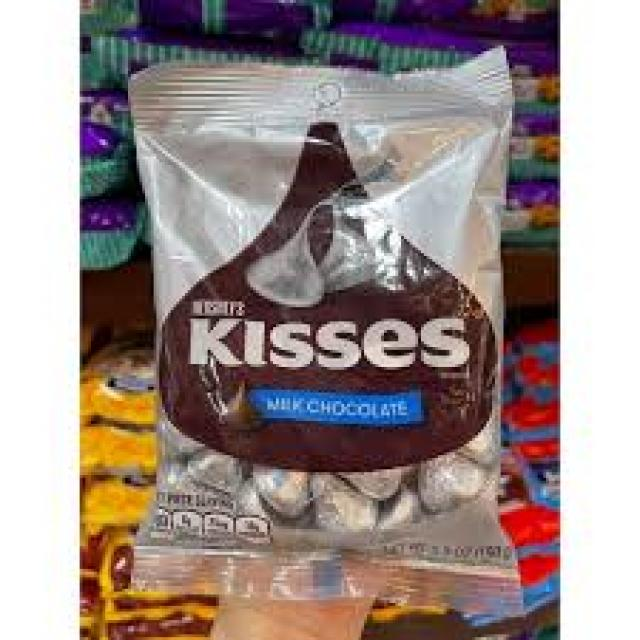kisses: (244, 209, 325, 309), (314, 200, 396, 296), (312, 467, 376, 540), (408, 460, 487, 508), (189, 449, 248, 496), (257, 471, 312, 518)
